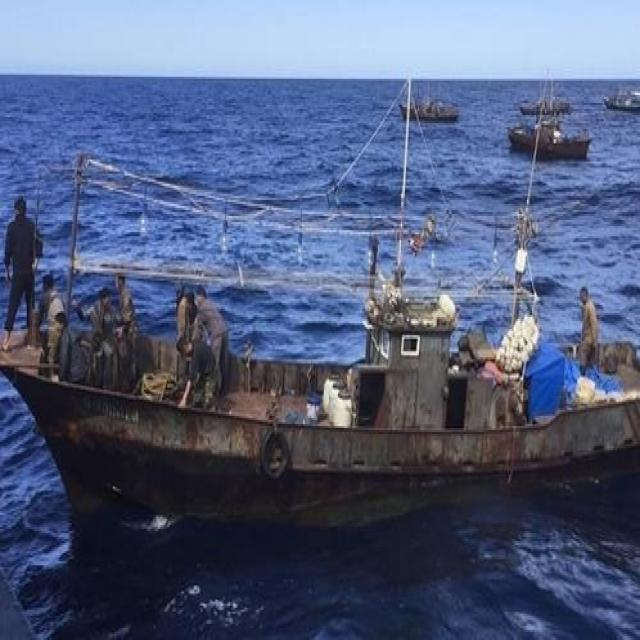Ship: (2, 247, 640, 512), (505, 119, 602, 167), (518, 86, 579, 122), (397, 96, 462, 129)
